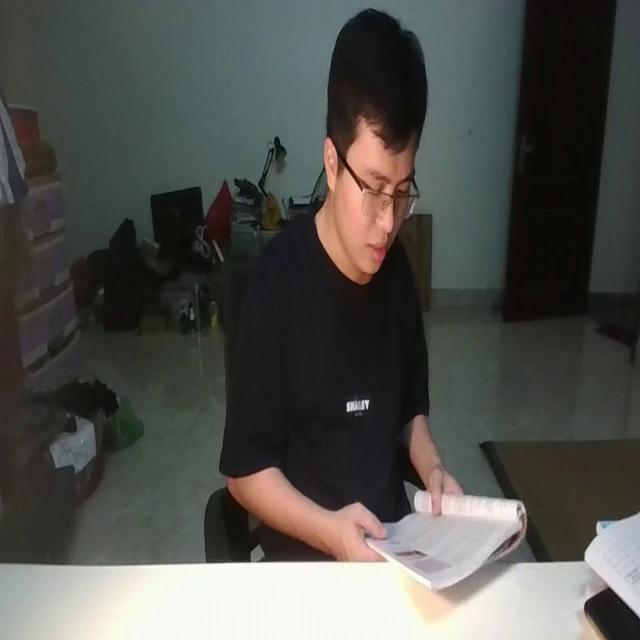book: (367, 482, 528, 598)
student: (218, 2, 470, 562)
